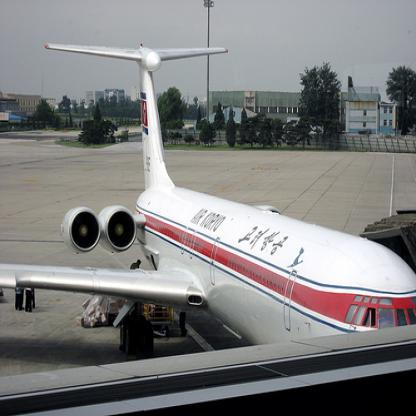aeroplane: (0, 42, 415, 346)
